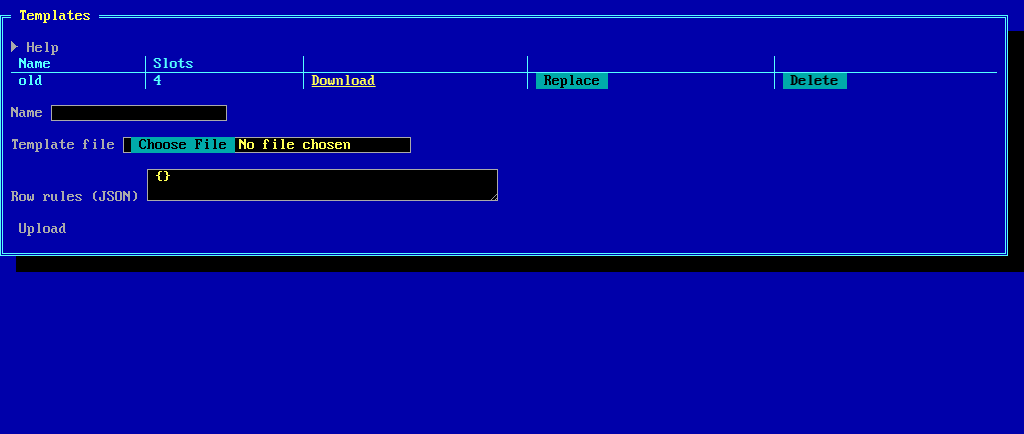
Scenario: Replace with no file sends the stored tti by PUT, then shows Added, Removed and stale fixed values
This screenshot has width=1024, height=434.
Click the button "Replace" at (572, 81), box [536, 73, 608, 89]
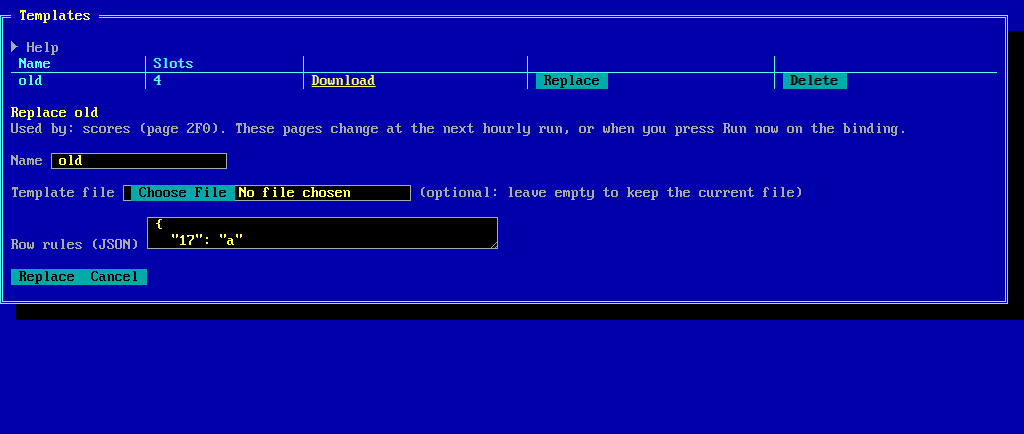
Replace the text in the field named "name" with "new" at (139, 161), box [51, 153, 227, 169]
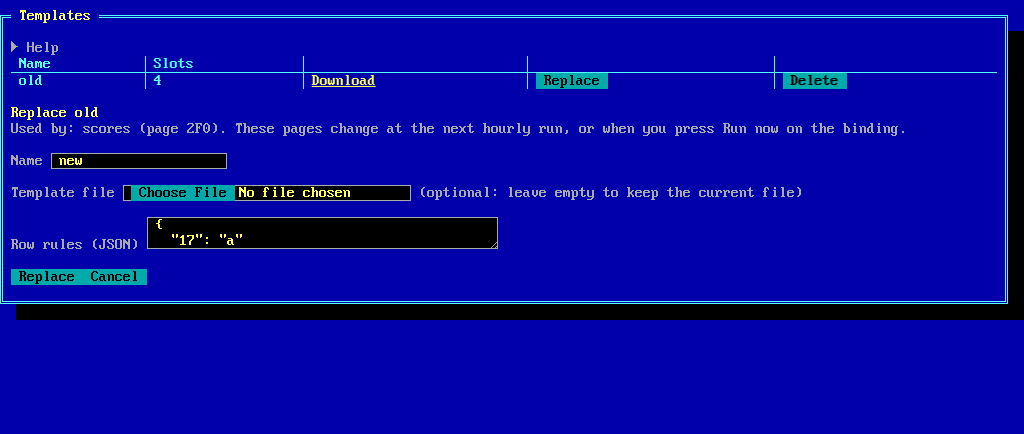
Submit the form, box [11, 105, 997, 285]
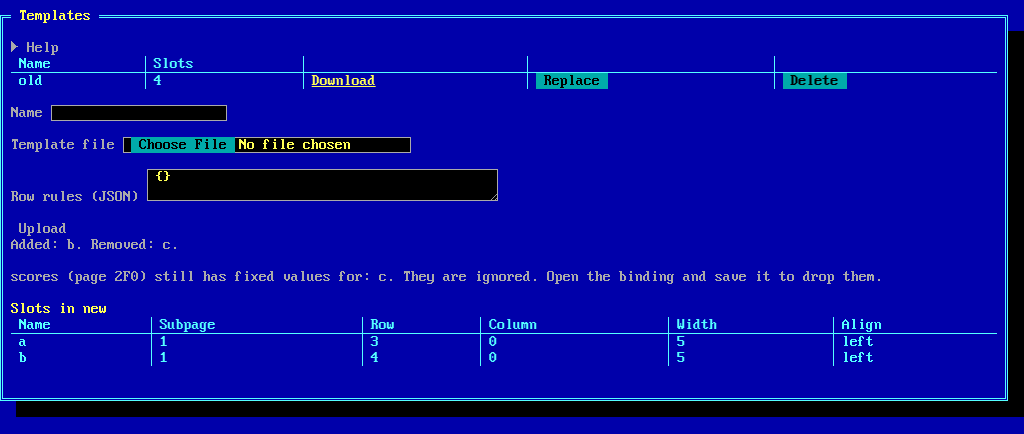
Now the text with class "changes" reads "Added: b. Removed: c.", box [11, 237, 179, 253]
Now the text with class "stale" shows "scores (page 2F0) still has fixed values for: c. They are ignored. Open the binding and save it to drop them.", box [11, 269, 883, 285]
Now the submit button reads "Upload", box [11, 221, 75, 237]
